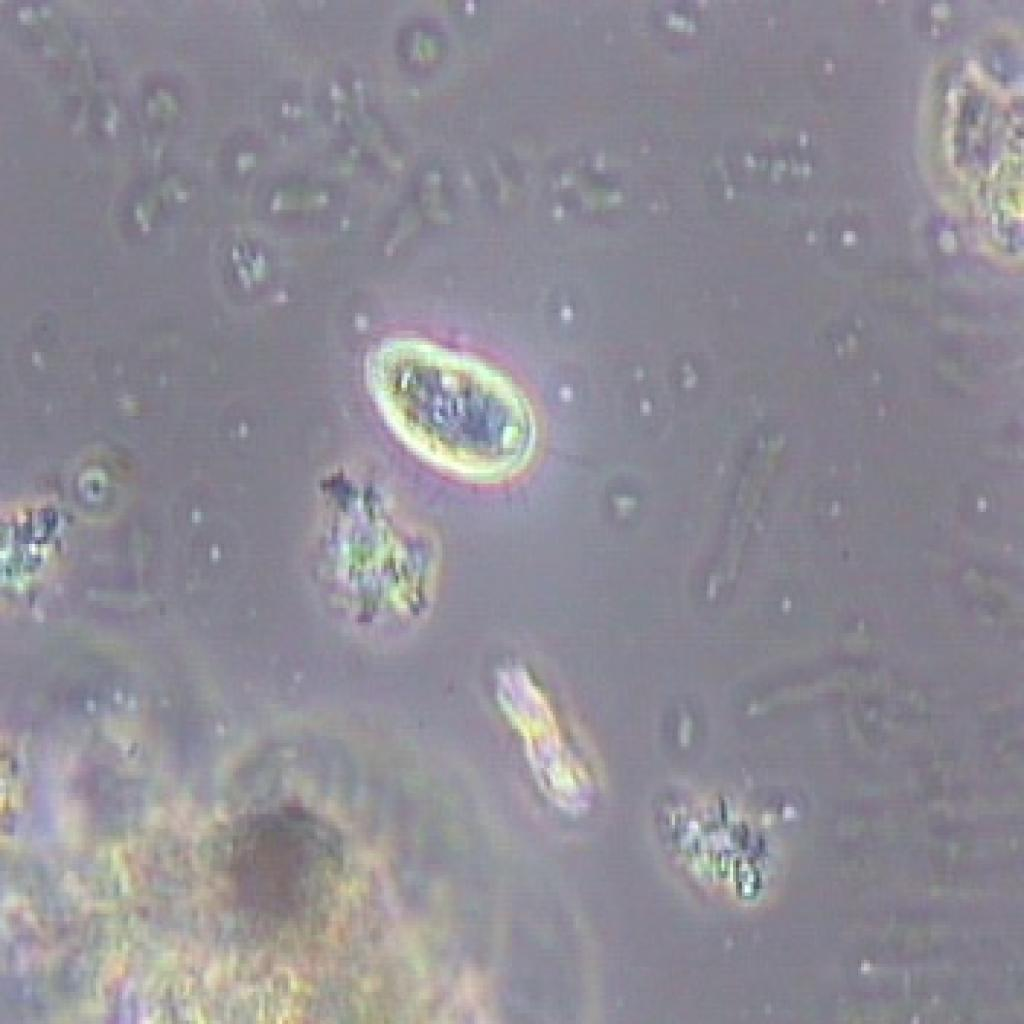Cyclidium: (340, 306, 573, 522)
